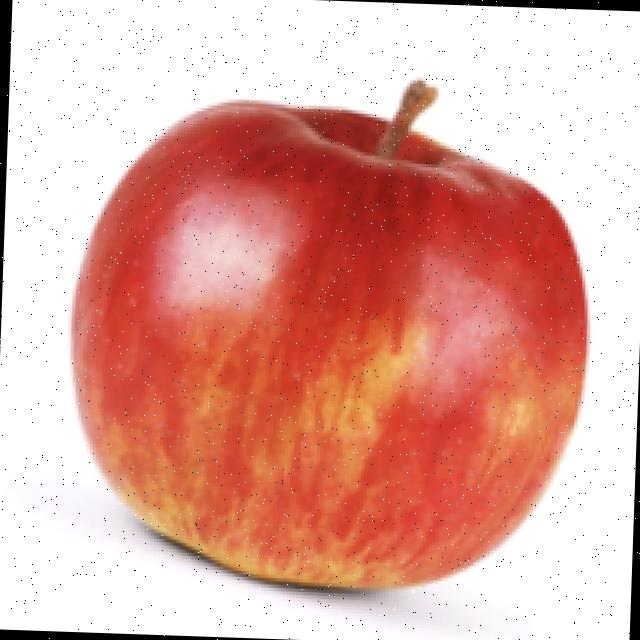apple: (66, 73, 594, 639)
